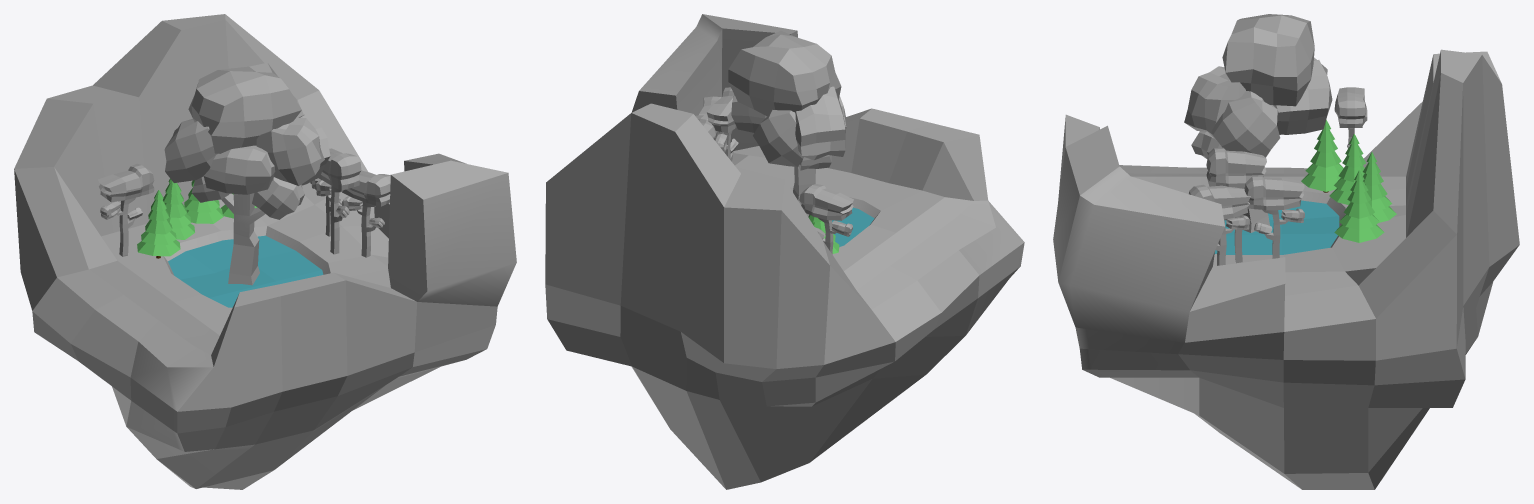
Rendered from Floating_Island3.fbx.
3 views of the same model, side by side, from view 1: azimuth 30°, elevation 25°; view 2: azimuth 150°, elevation 25°; view 3: azimuth 270°, elevation 25° (orthographic). The views are drawn at different scales.
Parts seen in each view (by area): view 1: Island3, BigTree_island3, Tree_Island3, Tree_island3_2, Tree_island3, Pinetree, Pinetree1, Pinetree2; view 2: Island3, BigTree_island3, Tree_Island3, Tree_island3_2; view 3: Island3, BigTree_island3, Tree_Island3_3, Tree_island3_2, Tree_island3, Pinetree3, Pinetree, Tree_Island3, Pinetree1, Pinetree2.
Boxes of the visible parts, <box> form: Island3: <box>14,14,516,489</box>; BigTree_island3: <box>164,62,330,285</box>; Tree_Island3: <box>98,163,154,256</box>; Tree_island3_2: <box>314,148,361,254</box>; Tree_island3: <box>342,170,390,257</box>; Pinetree: <box>137,190,180,258</box>; Pinetree1: <box>163,178,194,239</box>; Pinetree2: <box>184,180,223,223</box>; Island3: <box>545,14,1024,489</box>; BigTree_island3: <box>728,30,846,216</box>; Tree_Island3: <box>799,184,853,254</box>; Tree_island3_2: <box>706,87,738,161</box>; Island3: <box>1053,49,1519,489</box>; BigTree_island3: <box>1184,14,1332,232</box>; Tree_Island3_3: <box>1244,176,1304,258</box>; Tree_island3_2: <box>1206,147,1266,263</box>; Tree_island3: <box>1189,184,1250,265</box>; Pinetree3: <box>1334,170,1384,242</box>; Pinetree: <box>1301,120,1343,192</box>; Tree_Island3: <box>1334,87,1367,148</box>; Pinetree1: <box>1329,134,1365,204</box>; Pinetree2: <box>1363,152,1396,222</box>.
Size of the model in its own units: 33.4 by 36.94 by 33.75.
